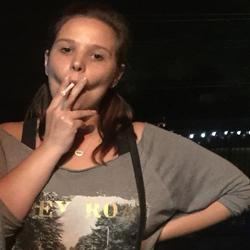cigarro: (61, 81, 82, 100)
fumador: (16, 1, 153, 250)
